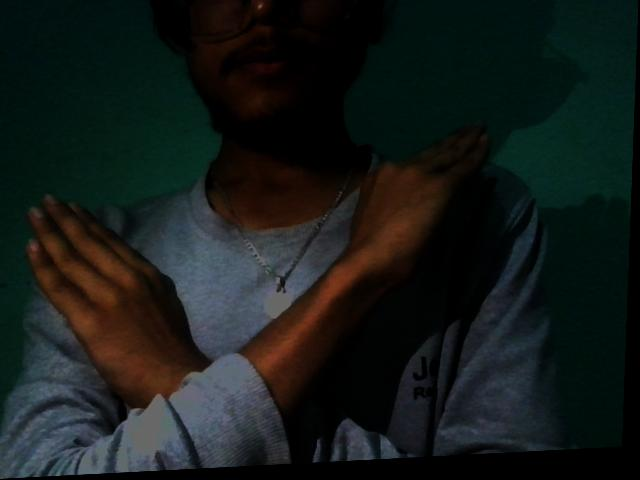dont: (0, 120, 508, 412)
